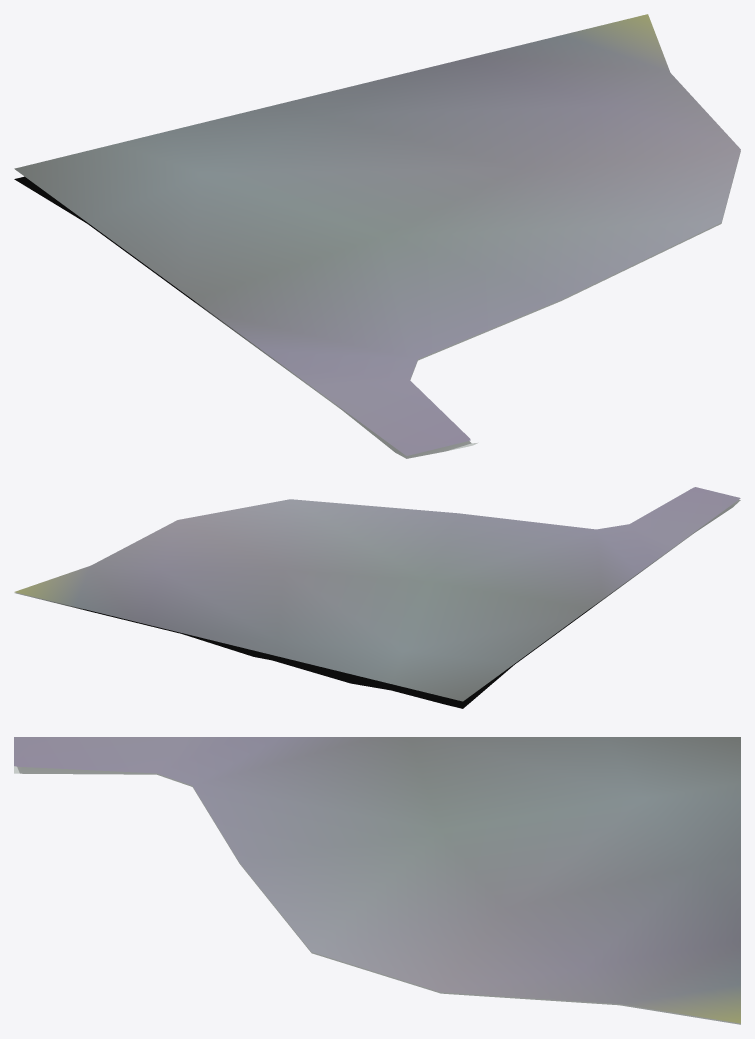
The picture shows the model from 3 angles, top to bottom: view 1: azimuth 30°, elevation 25°; view 2: azimuth 150°, elevation 25°; view 3: azimuth 270°, elevation 25°; orthographic projection. The views are drawn at different scales.
Visible parts, largest first — view 1: G:\FFXIV-MapTools\exports\r2f1\bg\ex1\01_roc_r2\fld\r2f1\bgp (×2); view 2: G:\FFXIV-MapTools\exports\r2f1\bg\ex1\01_roc_r2\fld\r2f1\bgp (×2); view 3: G:\FFXIV-MapTools\exports\r2f1\bg\ex1\01_roc_r2\fld\r2f1\bgp (×2).
Part boxes in pixels (x1,y1,x2,y2): G:\FFXIV-MapTools\exports\r2f1\bg\ex1\01_roc_r2\fld\r2f1\bgp (×2): (14, 14, 740, 458); G:\FFXIV-MapTools\exports\r2f1\bg\ex1\01_roc_r2\fld\r2f1\bgp (×2): (14, 487, 740, 708); G:\FFXIV-MapTools\exports\r2f1\bg\ex1\01_roc_r2\fld\r2f1\bgp (×2): (14, 737, 740, 1024).
Size of the model in its own units: 119 by 2.38 by 128.
